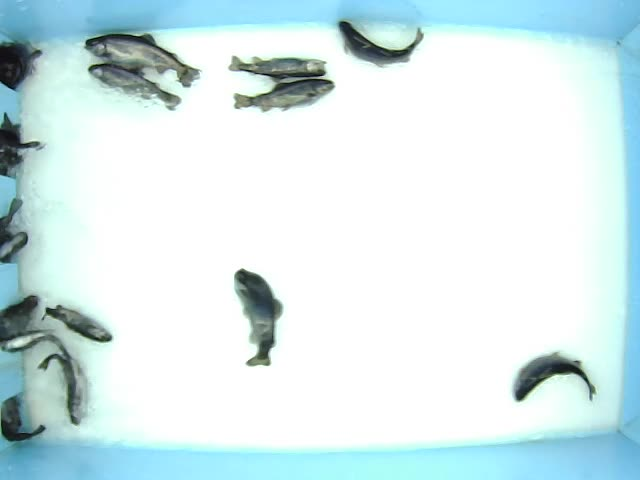fish: (86, 36, 206, 88), (226, 267, 285, 367), (508, 349, 600, 404), (88, 66, 187, 113), (336, 18, 426, 67), (231, 80, 344, 118), (37, 352, 91, 430), (44, 296, 114, 345), (222, 53, 333, 81)
